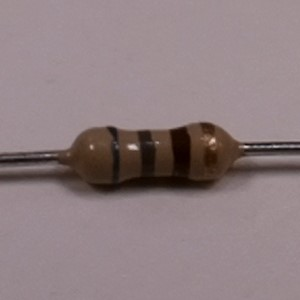blue_band: (104, 123, 124, 189)
brown_band: (167, 123, 194, 186)
gold_band: (198, 119, 222, 184)
grey_band: (135, 127, 160, 180)
